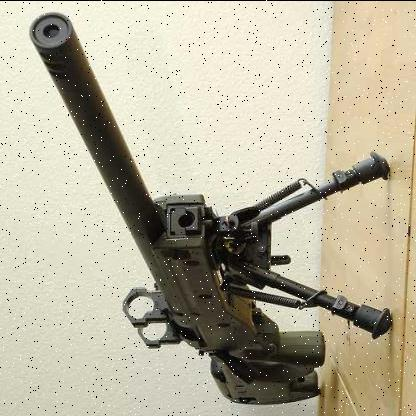rifle: (16, 7, 353, 406)
